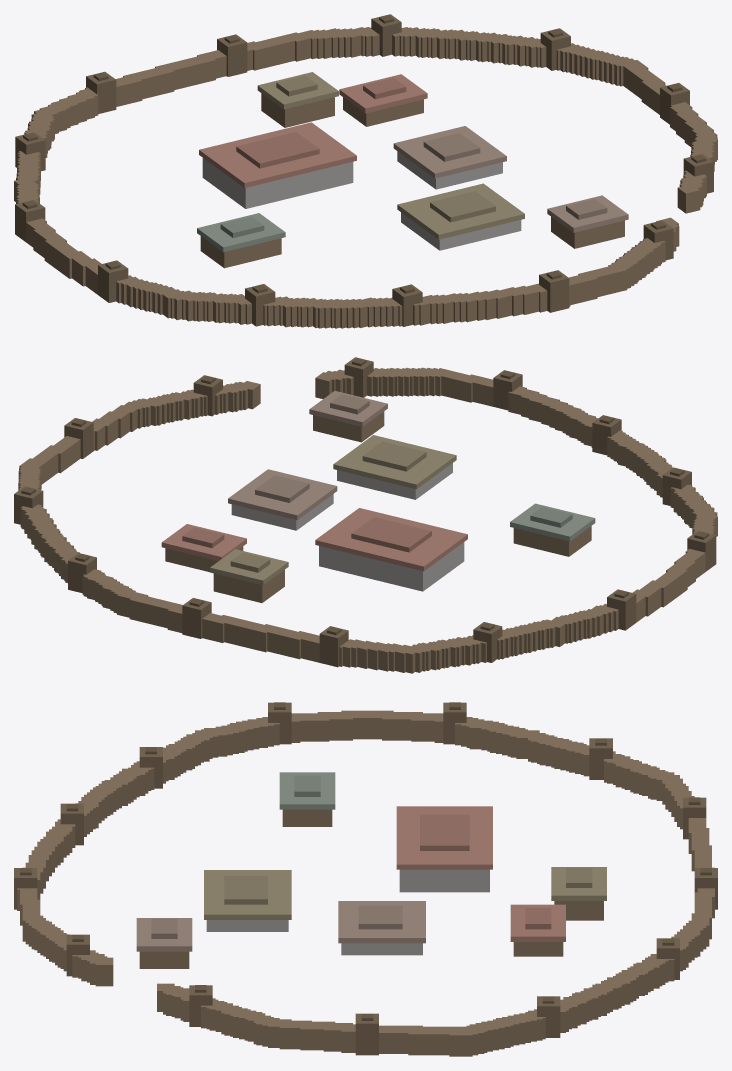
File: ciudad_aldea_maderera_2958_693_01.glb
3 renders of one model, top to bottom at view 1: azimuth 30°, elevation 25°; view 2: azimuth 150°, elevation 25°; view 3: azimuth 270°, elevation 25°, orthographic. The views are drawn at different scales.
Parts seen in each view (by area): view 1: ciudad_aldea_maderera_2958_693; view 2: ciudad_aldea_maderera_2958_693; view 3: ciudad_aldea_maderera_2958_693.
Boxes of the visible parts, bbox=[...] form: ciudad_aldea_maderera_2958_693: bbox=[14, 14, 717, 328]; ciudad_aldea_maderera_2958_693: bbox=[14, 357, 717, 673]; ciudad_aldea_maderera_2958_693: bbox=[14, 702, 717, 1056].
Bounding box in the file's own units: 65.75 × 3.25 × 60.25.
